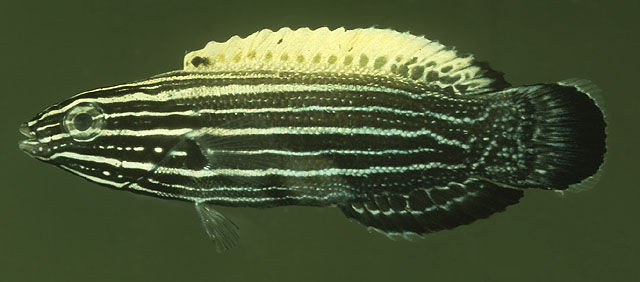fish: (17, 24, 609, 256)
